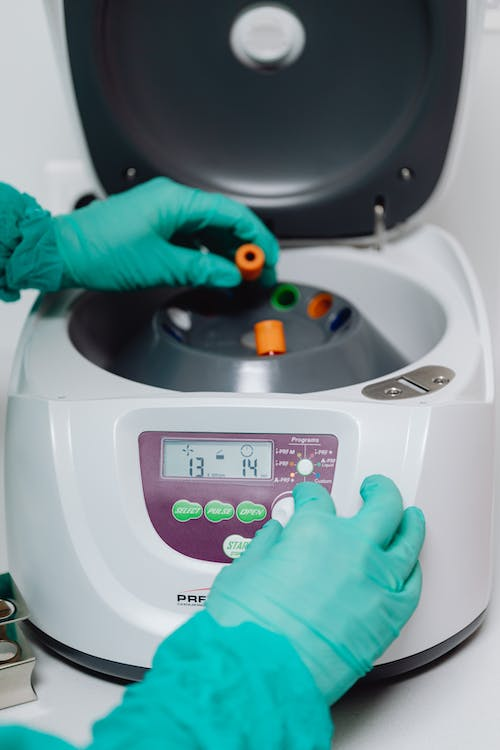blood: (234, 269, 263, 312)
